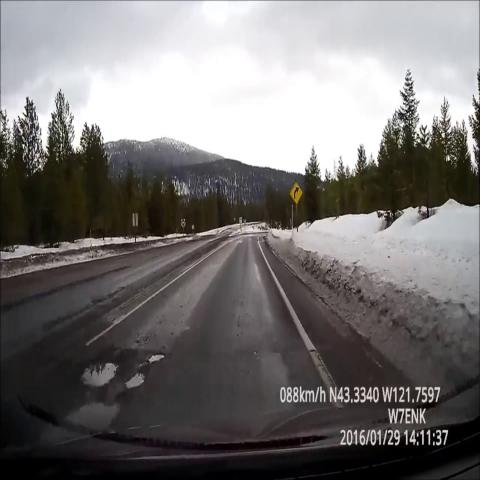pothole: (73, 338, 121, 403), (66, 393, 126, 434), (116, 361, 158, 398)
